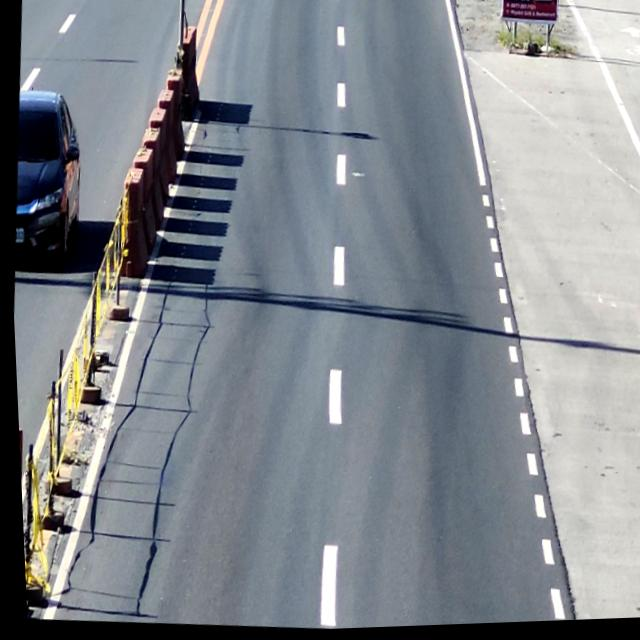Car: (6, 85, 90, 273)
